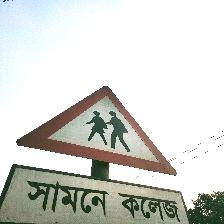College-in-front: (8, 83, 224, 224)
